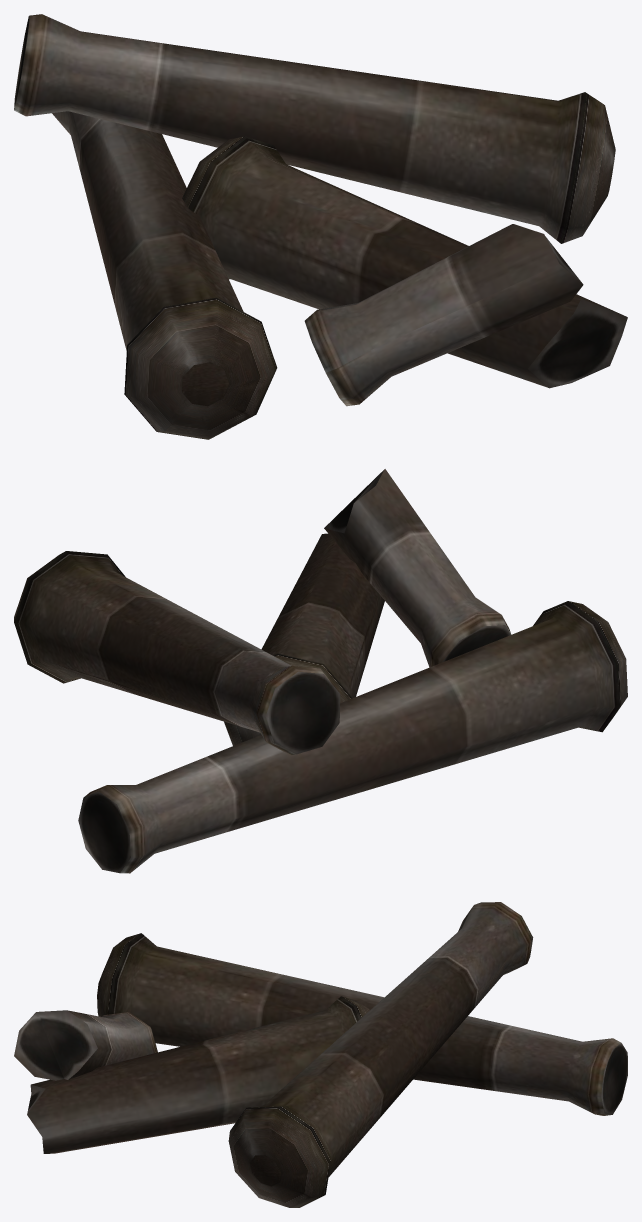
The model's file is cannon_stack_02.fbx.
3 renders of one model, top to bottom at view 1: azimuth 30°, elevation 25°; view 2: azimuth 150°, elevation 25°; view 3: azimuth 270°, elevation 25°, orthographic. The views are drawn at different scales.
Parts seen in each view (by area): view 1: barrel_High9, barrel_High5, barrel_High, barrel_High1; view 2: barrel_High5, barrel_High9, barrel_High1, barrel_High; view 3: barrel_High9, barrel_High5, barrel_High, barrel_High1.
Boxes of the visible parts, x1,y1,x2,y2 form: barrel_High9: (14, 14, 615, 243); barrel_High5: (52, 111, 277, 439); barrel_High: (182, 136, 627, 388); barrel_High1: (304, 224, 583, 406); barrel_High5: (78, 601, 627, 873); barrel_High9: (14, 551, 340, 755); barrel_High1: (324, 469, 511, 667); barrel_High: (224, 533, 384, 745); barrel_High9: (228, 902, 533, 1207); barrel_High5: (97, 933, 627, 1115); barrel_High: (27, 996, 369, 1153); barrel_High1: (14, 1010, 157, 1080).
Bounding box in the file's own units: 766 × 287 × 924.
Materials: 1 (1 with a texture image).
